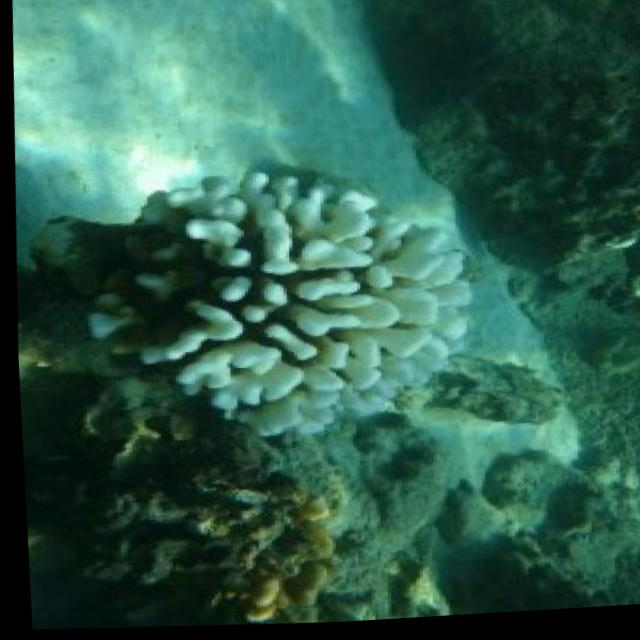Bleached Coral: (128, 158, 491, 430)
Dead Coral: (17, 407, 249, 628)
